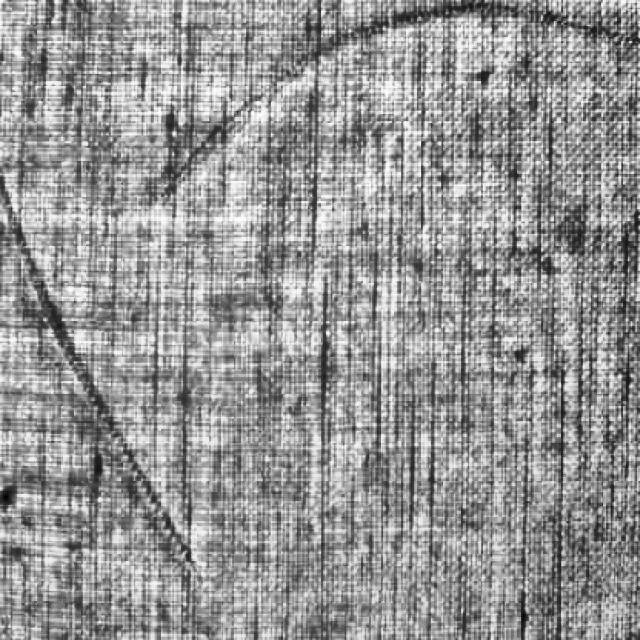thread_error: (135, 0, 640, 221), (0, 159, 198, 572)
